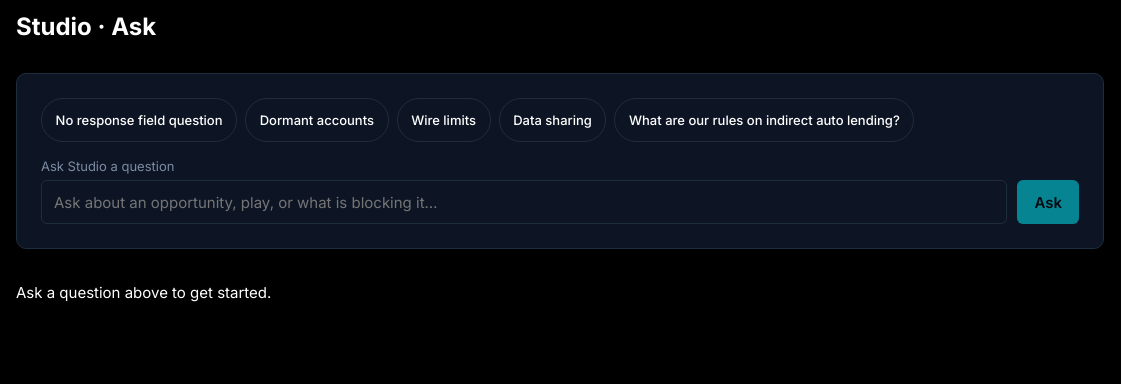
Test: AC-A20-6 — backward-compatible default › a fixture ChatEntry with no `response` field renders the instructional layout
Type "No response field question" into the field labelled "Ask Studio a question".
click(524, 202); type("No response field question")  # box x1=41 y1=180 x2=1007 y2=224
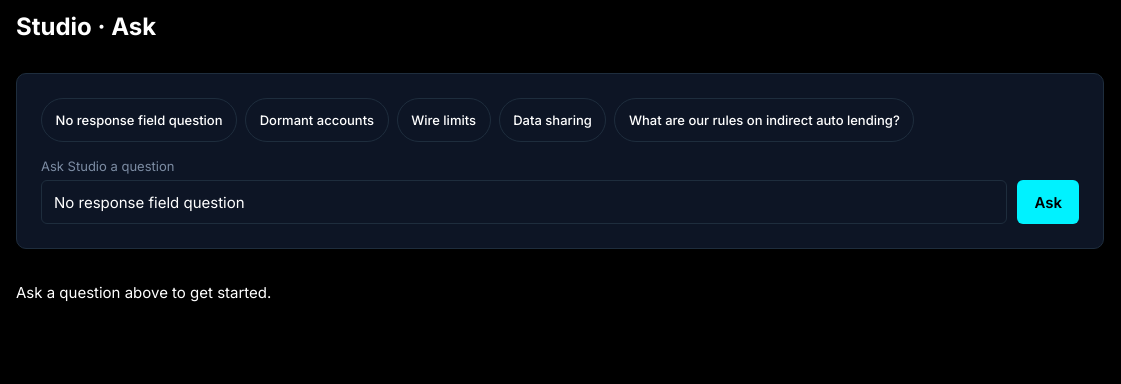
Click the button "Ask".
click(1048, 202)  # box x1=1017 y1=180 x2=1079 y2=224
Wait 800 ms
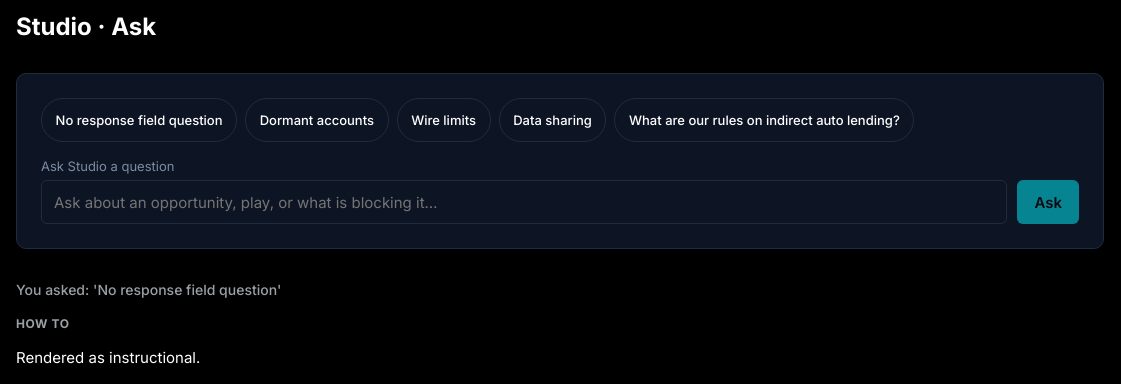
Expected: the text "How to" is shown, x1=16 y1=316 x2=70 y2=331
Expected: the text "Rendered as instructional." is shown, x1=16 y1=348 x2=200 y2=367
